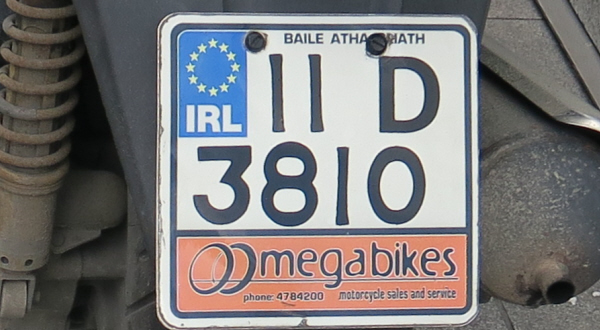license_plate: (158, 11, 479, 330)
